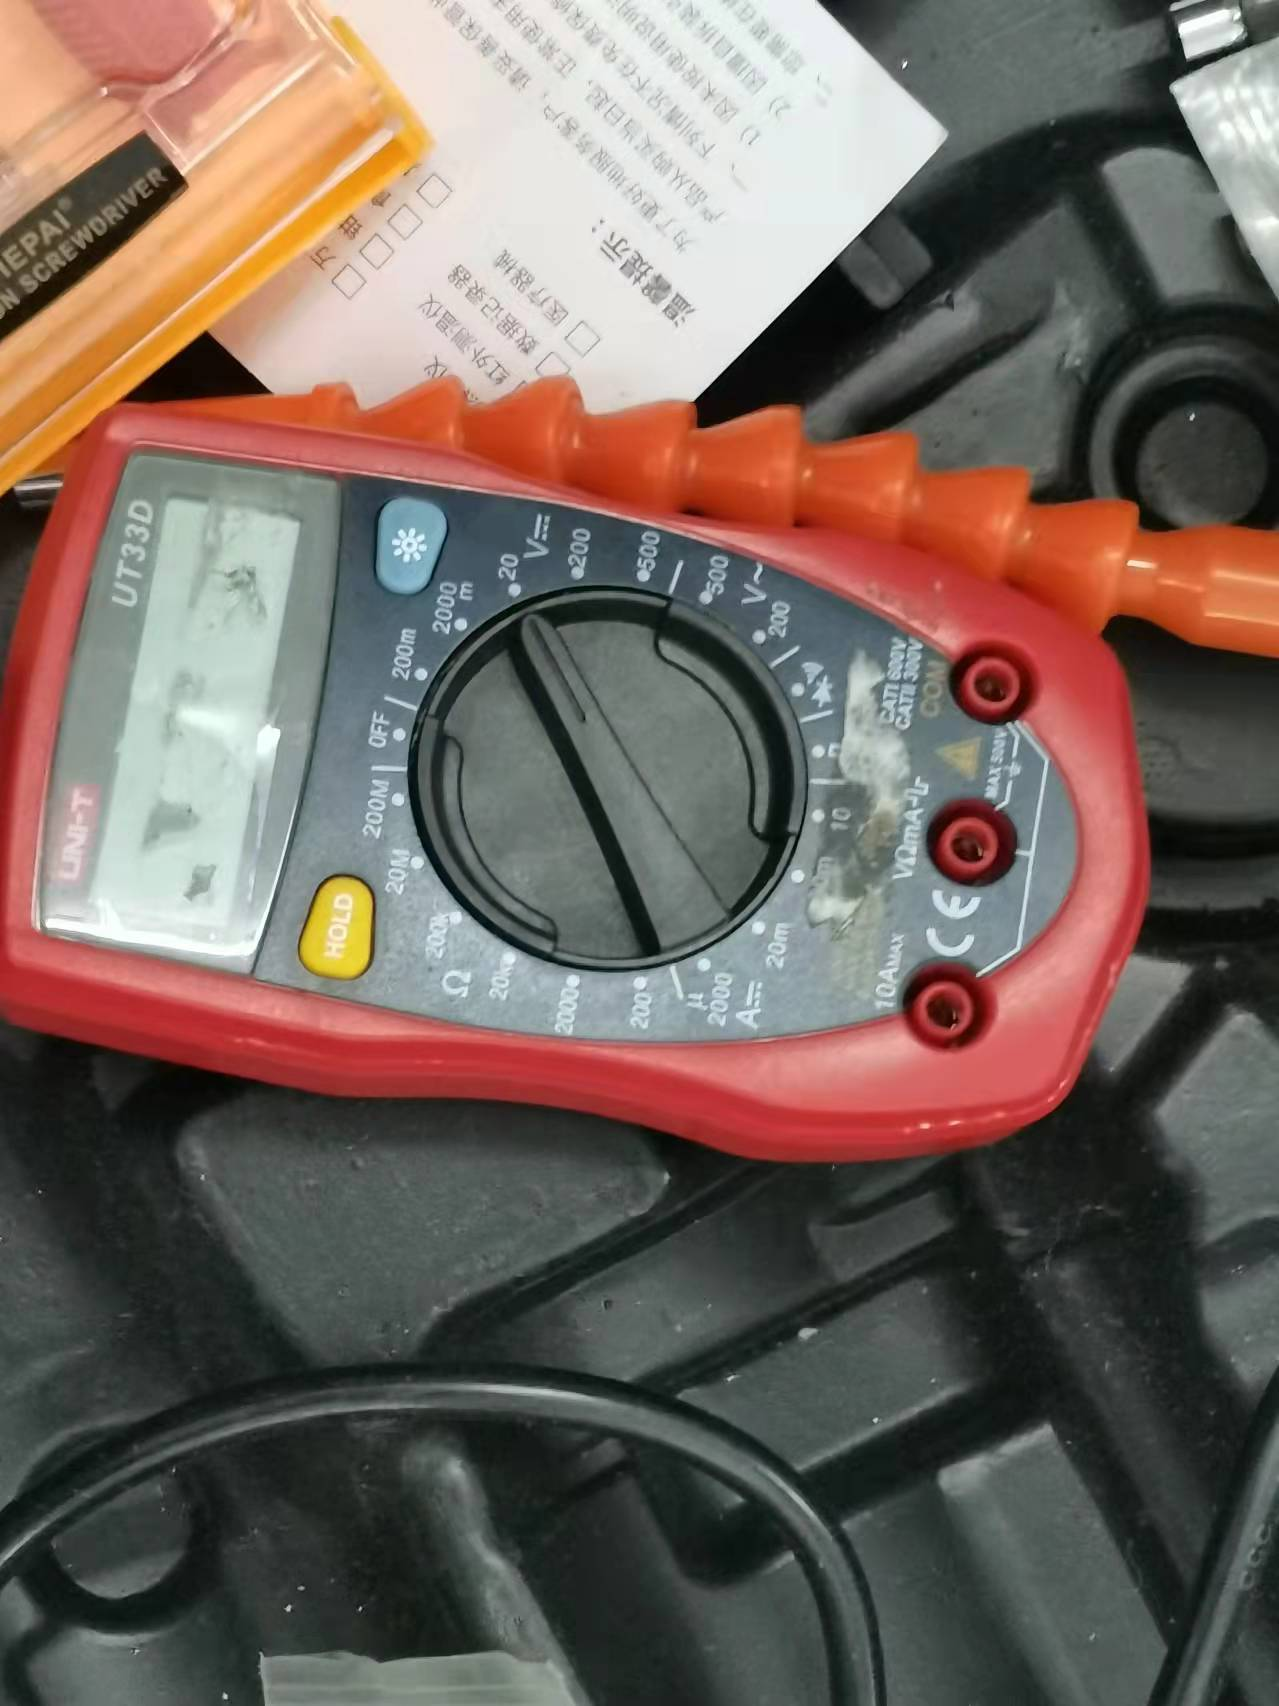Multimeter: (3, 400, 1151, 1165)
